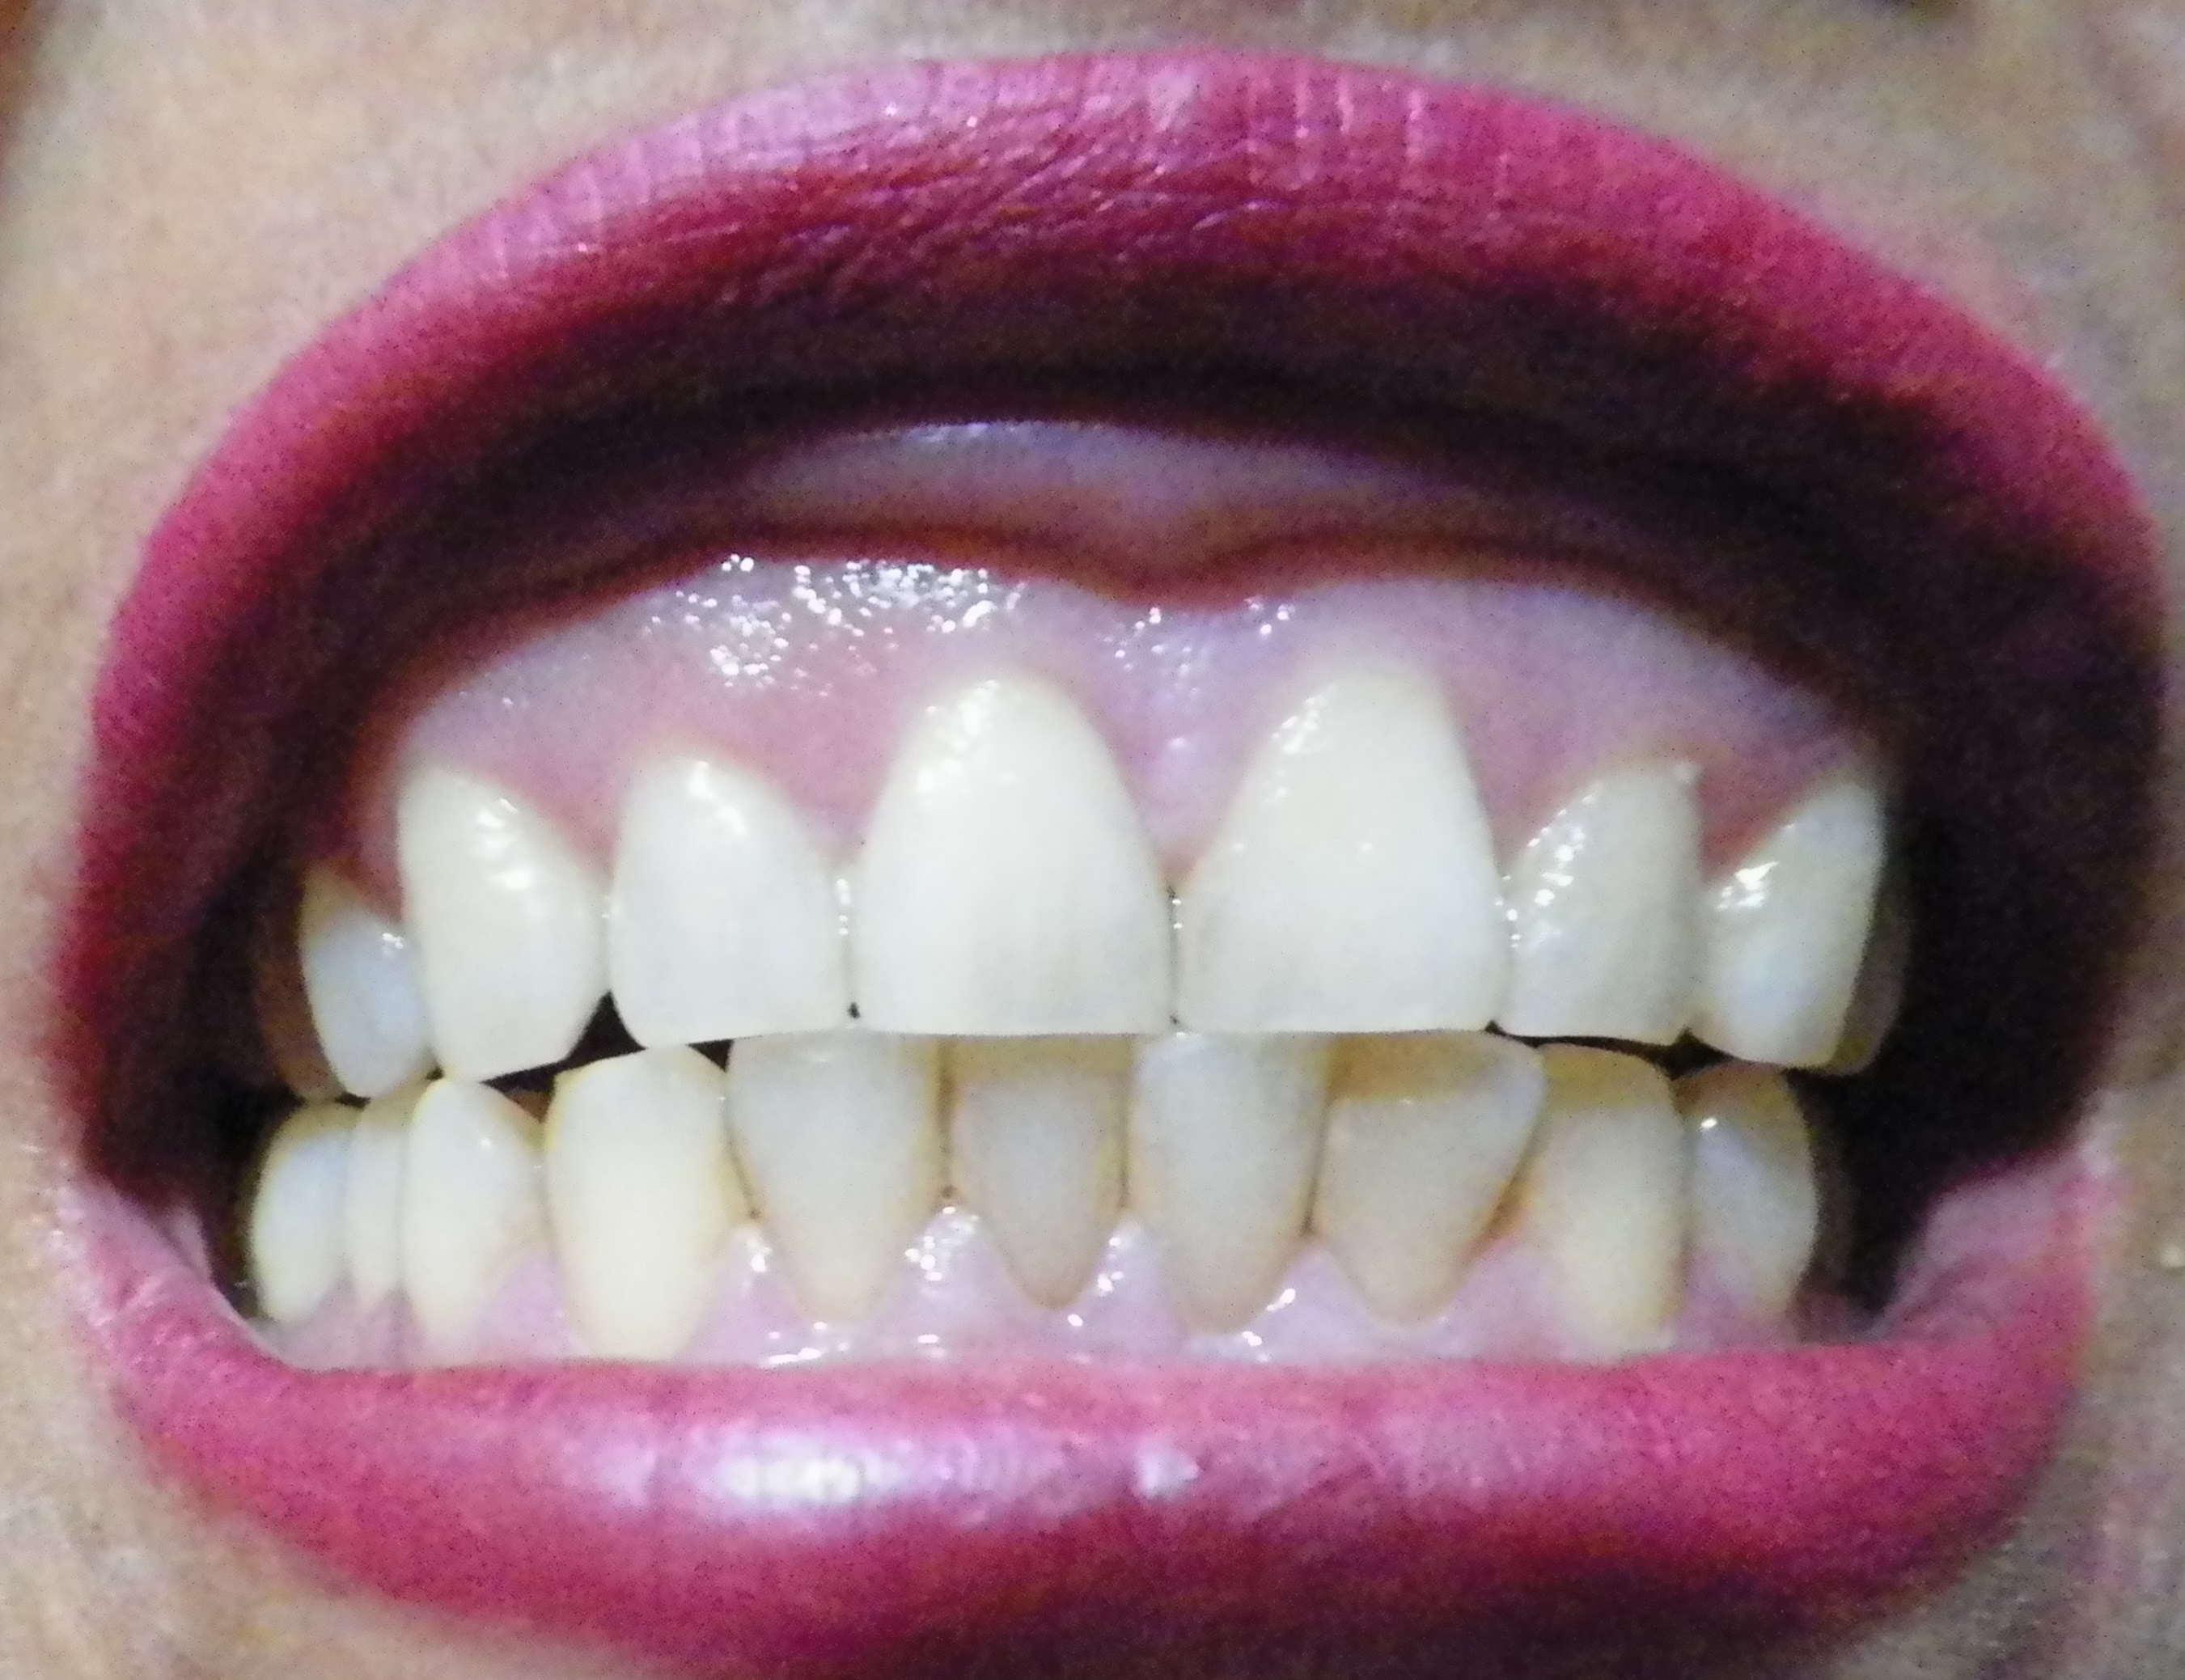boca: (249, 736, 1971, 1366)
